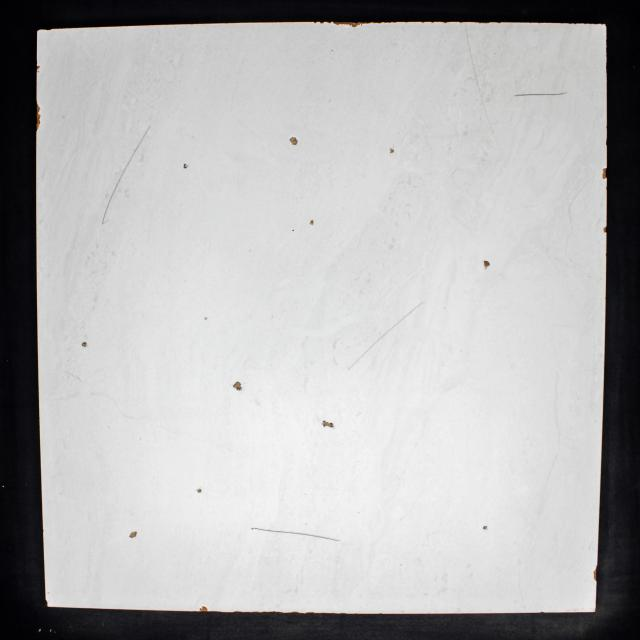edge-chipping: (334, 21, 364, 28), (36, 103, 41, 131), (593, 565, 597, 581), (602, 167, 607, 179), (200, 606, 208, 612), (603, 225, 606, 234), (320, 21, 324, 24), (36, 66, 40, 69)
hole: (322, 420, 334, 428), (233, 382, 242, 392), (290, 136, 298, 146), (129, 531, 137, 538), (484, 260, 491, 268), (81, 342, 88, 348), (482, 525, 488, 530), (197, 488, 202, 494), (183, 163, 188, 169), (389, 148, 394, 154), (310, 219, 314, 226)
line: (347, 301, 425, 371), (101, 125, 151, 225), (464, 25, 496, 143), (250, 527, 340, 541), (515, 91, 567, 97)
